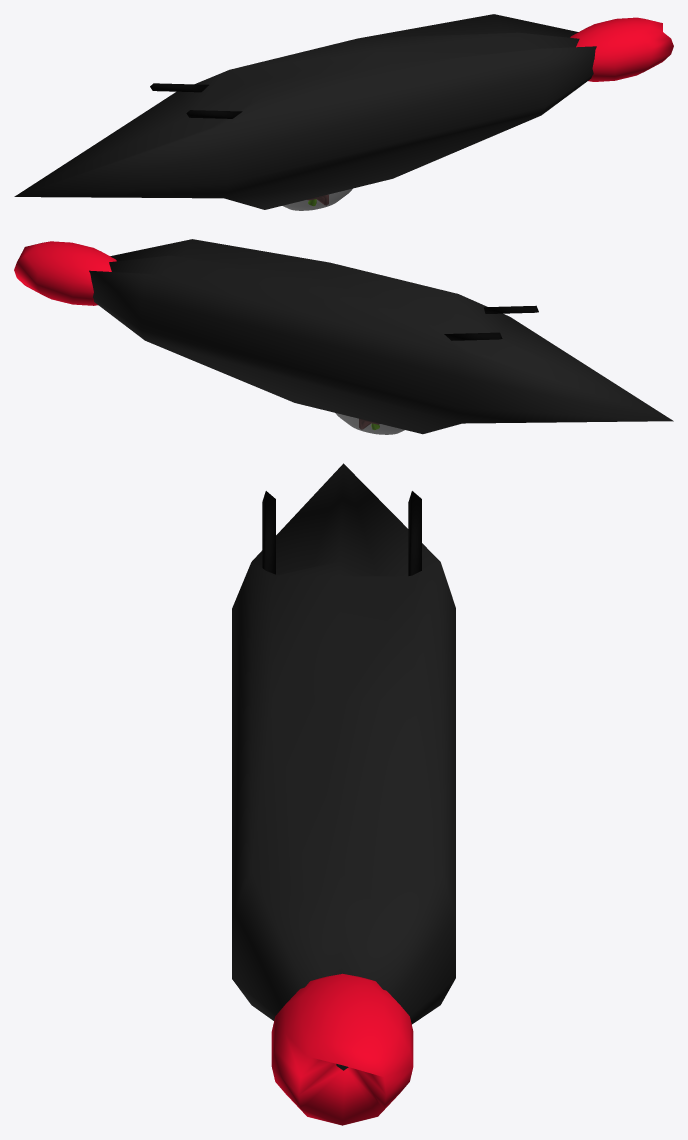
File: nave4.fbx
The picture shows the model from 3 angles, top to bottom: view 1: azimuth 30°, elevation 25°; view 2: azimuth 150°, elevation 25°; view 3: azimuth 270°, elevation 25°; orthographic projection. The views are drawn at different scales.
Parts seen in each view (by area): view 1: Cylinder.002, Sphere.002, Cylinder, cristal; view 2: Cylinder.002, Sphere.002, Cylinder, cristal; view 3: Cylinder.002, Sphere.002, Cylinder.
Boxes of the visible parts, left/top/right/bottom form: Cylinder.002: left=14, top=14, right=596, bottom=209; Sphere.002: left=570, top=17, right=673, bottom=81; Cylinder: left=150, top=83, right=242, bottom=118; cristal: left=282, top=188, right=352, bottom=210; Cylinder.002: left=89, top=239, right=673, bottom=434; Sphere.002: left=14, top=241, right=116, bottom=305; Cylinder: left=444, top=305, right=538, bottom=340; cristal: left=335, top=413, right=404, bottom=434; Cylinder.002: left=232, top=463, right=455, bottom=1070; Sphere.002: left=271, top=973, right=413, bottom=1125; Cylinder: left=262, top=491, right=421, bottom=575.
Size of the model in its own units: 101 by 21.57 by 15.02.
